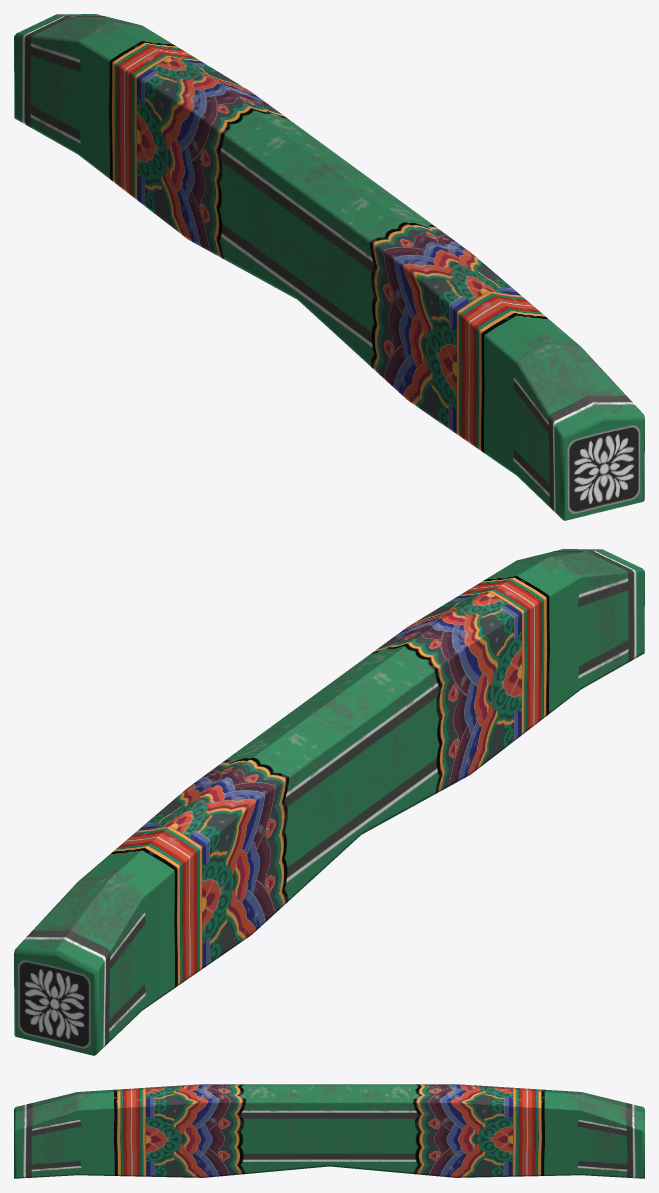
Rendered from SM_Jungbo01d.fbx.
The picture shows the model from 3 angles, top to bottom: view 1: azimuth 30°, elevation 25°; view 2: azimuth 150°, elevation 25°; view 3: azimuth 270°, elevation 25°; orthographic projection. The views are drawn at different scales.
Parts seen in each view (by area): view 1: SM_Jungbo01d; view 2: SM_Jungbo01d; view 3: SM_Jungbo01d.
Part boxes in pixels (x1,y1,x2,y2): SM_Jungbo01d: [14, 14, 644, 520]; SM_Jungbo01d: [14, 549, 644, 1055]; SM_Jungbo01d: [14, 1084, 644, 1178].
Bounding box in the file's own units: 22.99 × 260 × 38.15.
Materials: 1 (1 with a texture image).
